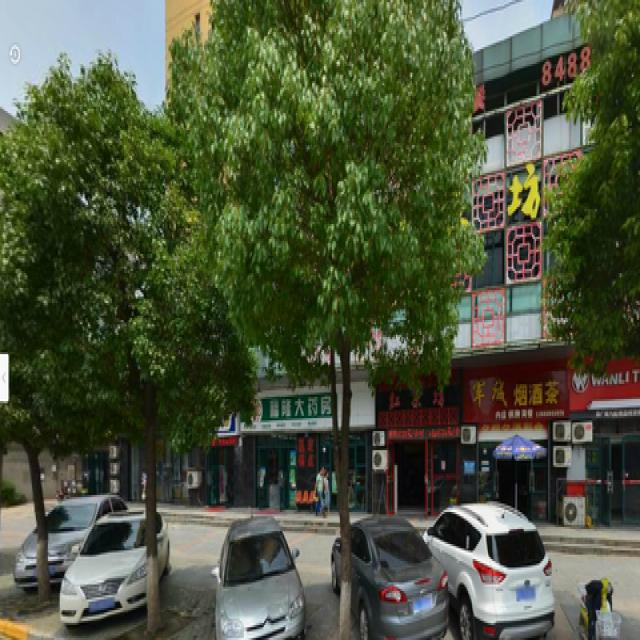cinn: (248, 11, 407, 574), (73, 109, 203, 589)
